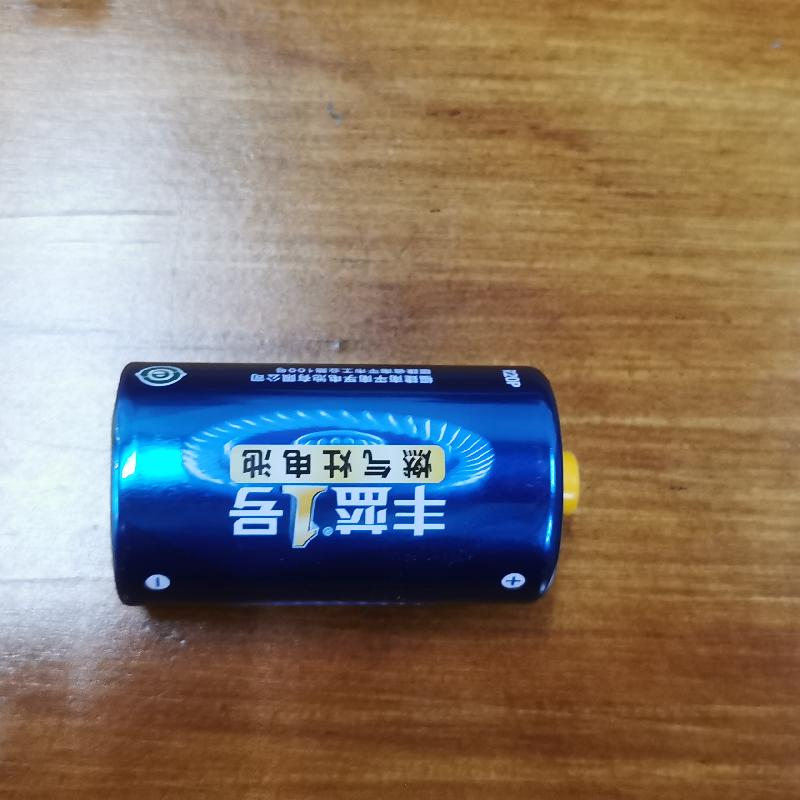battery: (101, 340, 591, 625)
